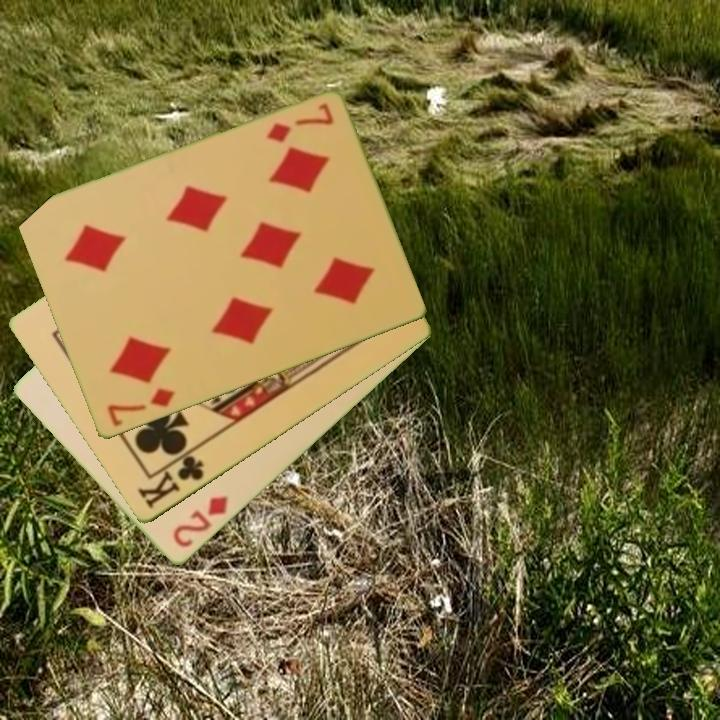2d: (169, 492, 232, 552)
7d: (103, 385, 178, 431), (262, 100, 336, 146)
Kc: (134, 445, 207, 512)
